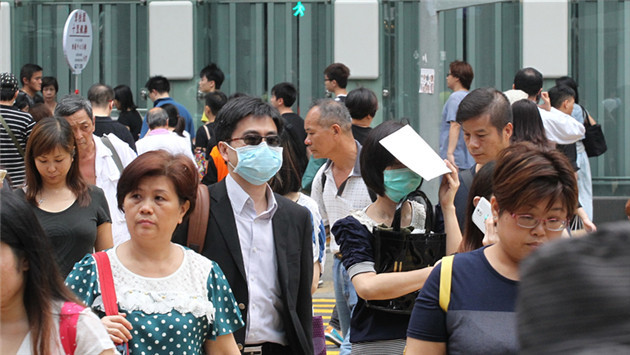mask: (235, 148, 287, 184), (383, 171, 422, 202)
